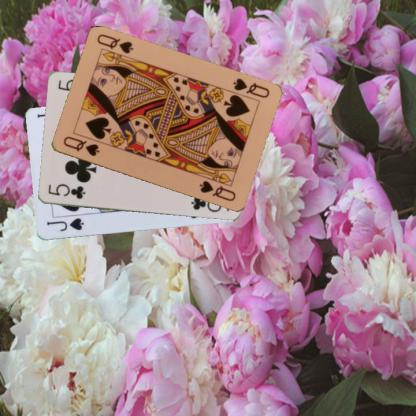5c: (45, 182, 87, 200)
Js: (44, 215, 85, 233)
Qs: (60, 133, 101, 158), (230, 76, 270, 99)
